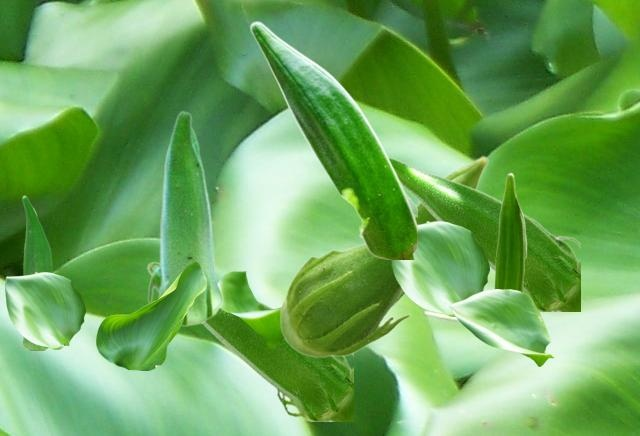okra: (279, 155, 488, 357), (249, 21, 416, 258), (146, 261, 352, 420), (389, 156, 579, 310), (147, 110, 223, 326), (22, 195, 52, 349), (494, 172, 526, 291)
